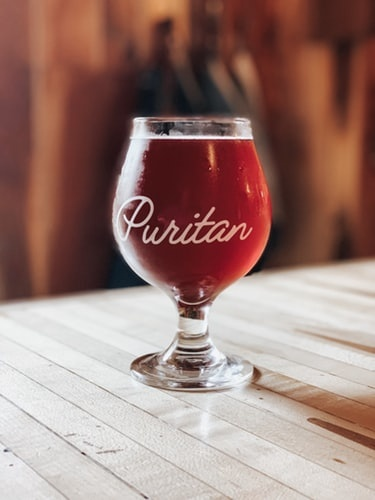whiskey: (107, 121, 276, 384)
